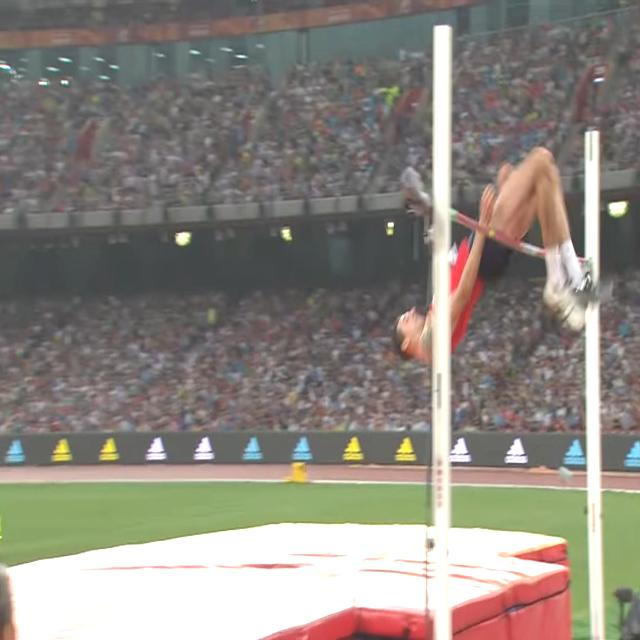jump: (392, 144, 616, 365)
